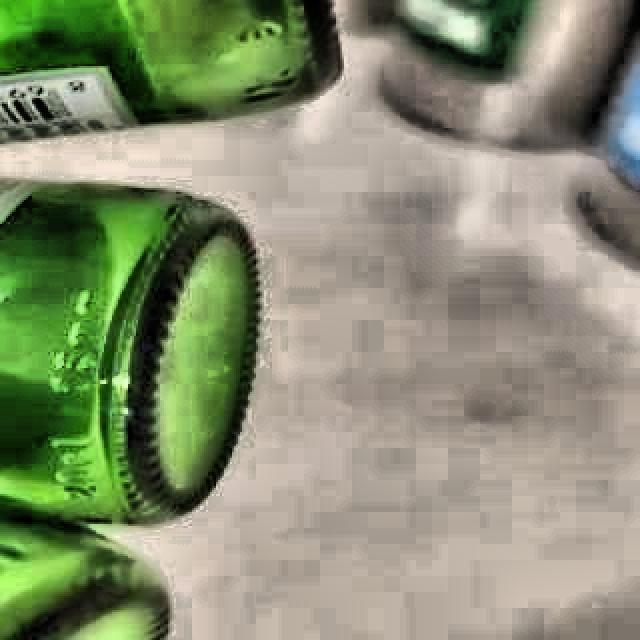glass: (0, 179, 259, 640)
